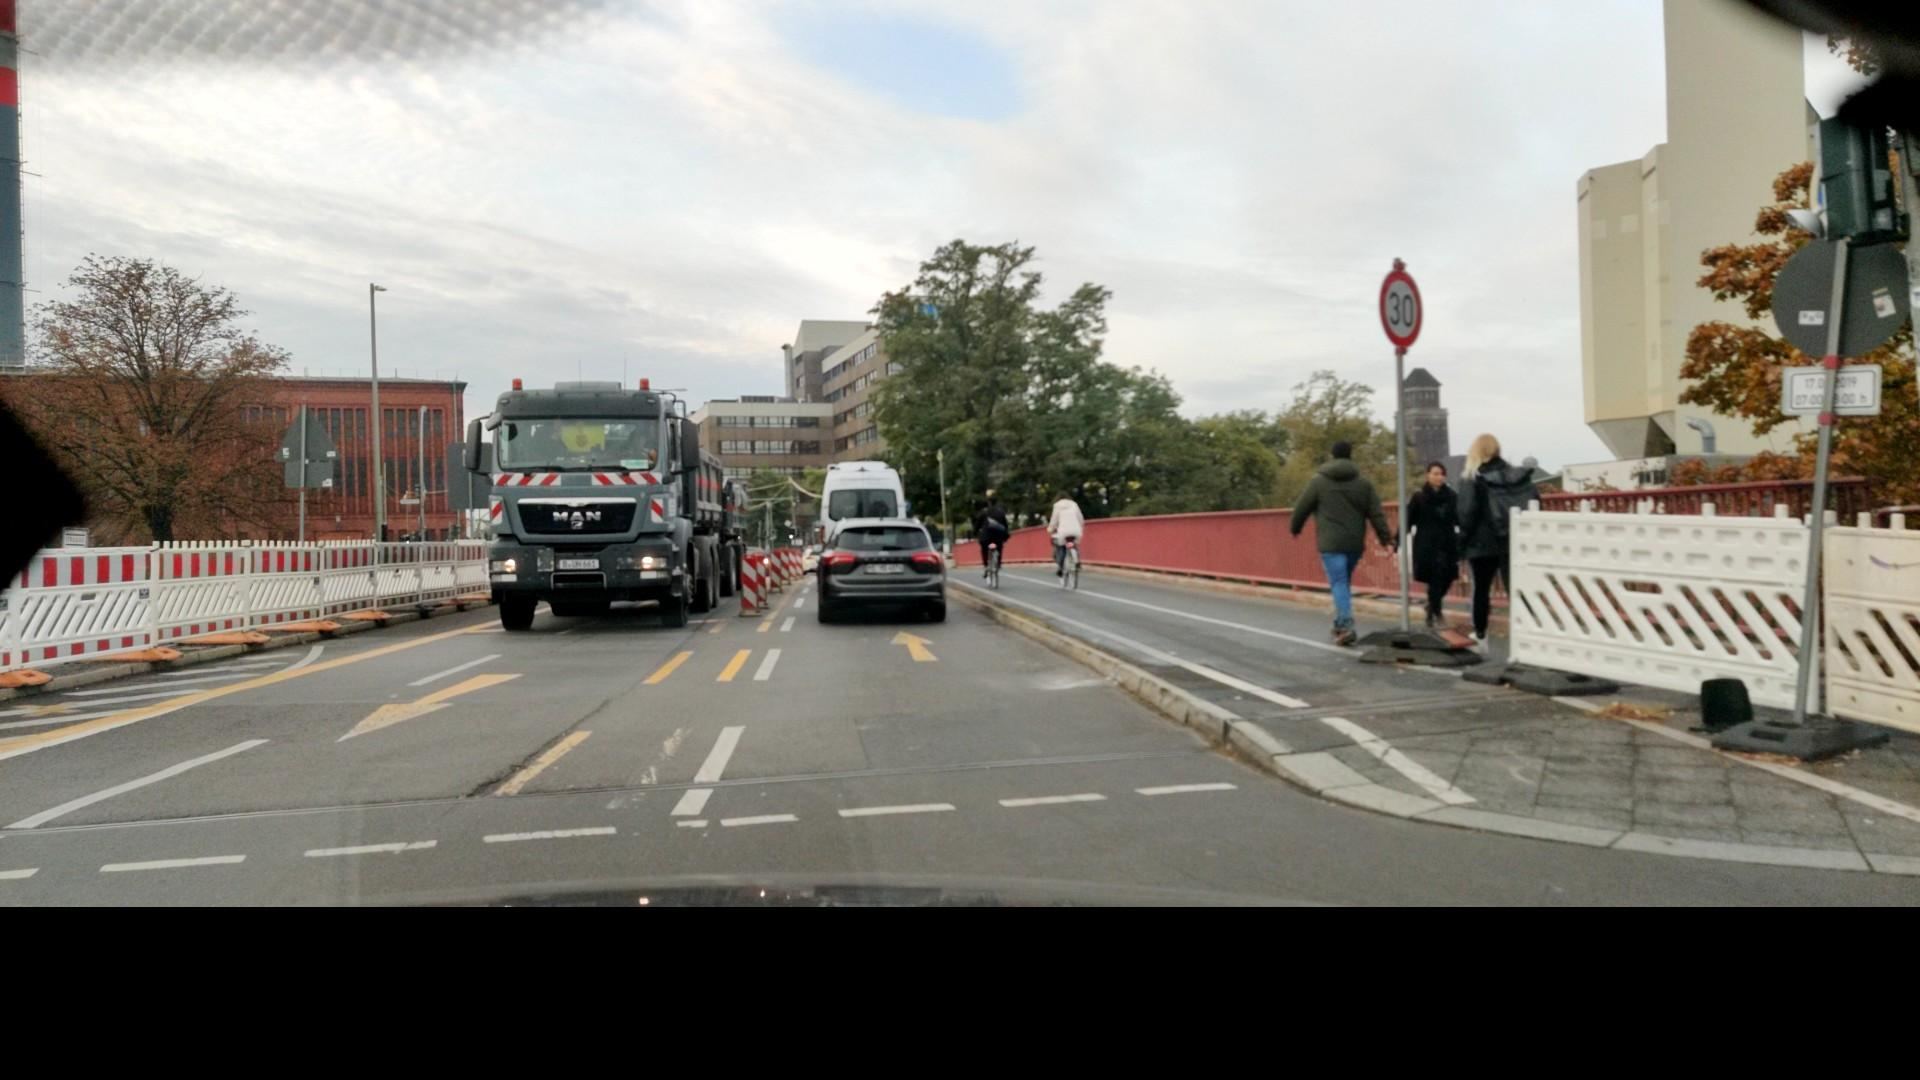Human face: (628, 430, 647, 450)
Vehicle registration plate: (554, 558, 600, 570), (862, 563, 904, 574)
